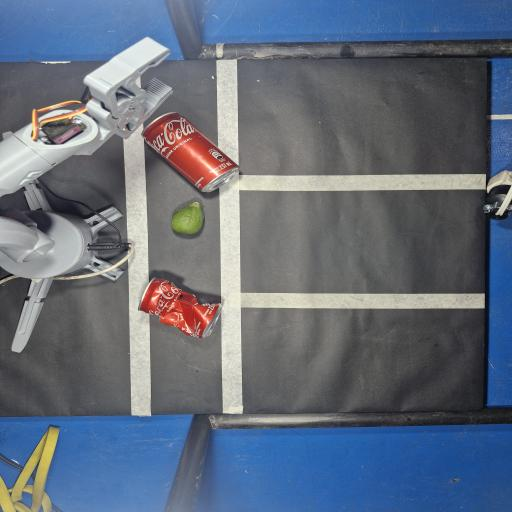higo: (171, 202, 204, 234)
lata: (143, 113, 239, 192)
lata_defectuoso: (138, 278, 222, 338)
